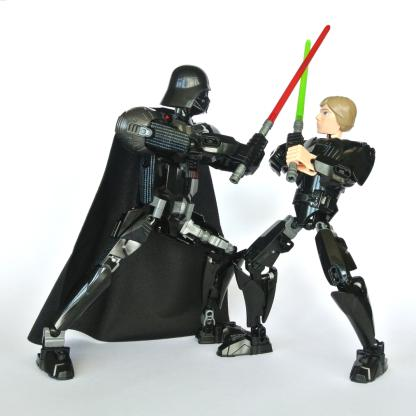Helmet: (160, 64, 220, 110)
